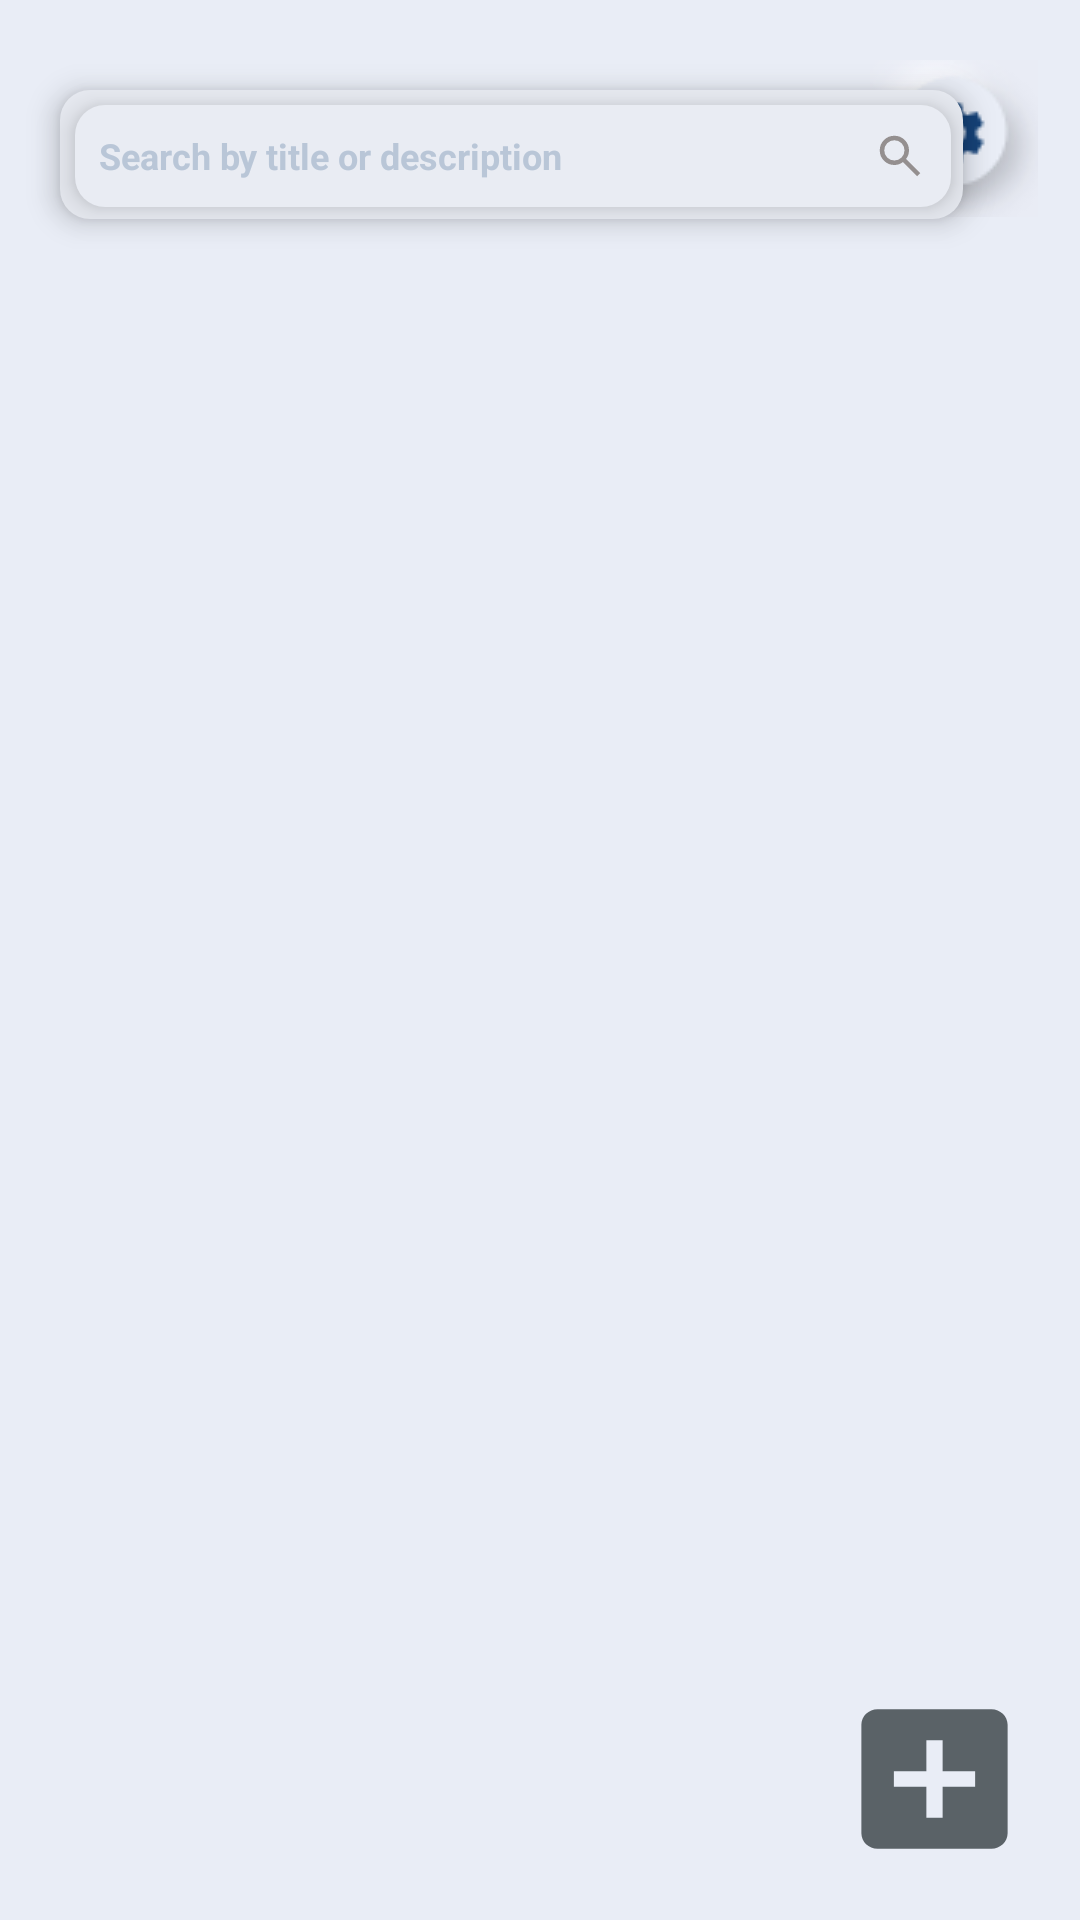

Screen size 1080*1920. Icon name, then its box in pixels as (x1, y1, x2, y2):
add box: (861, 1709, 1008, 1849)
